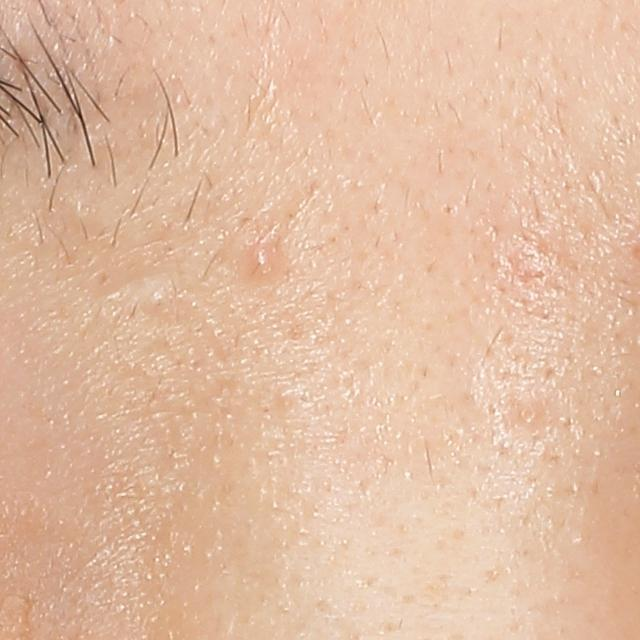comedo: (144, 289, 170, 313)
papule: (248, 243, 275, 276)
